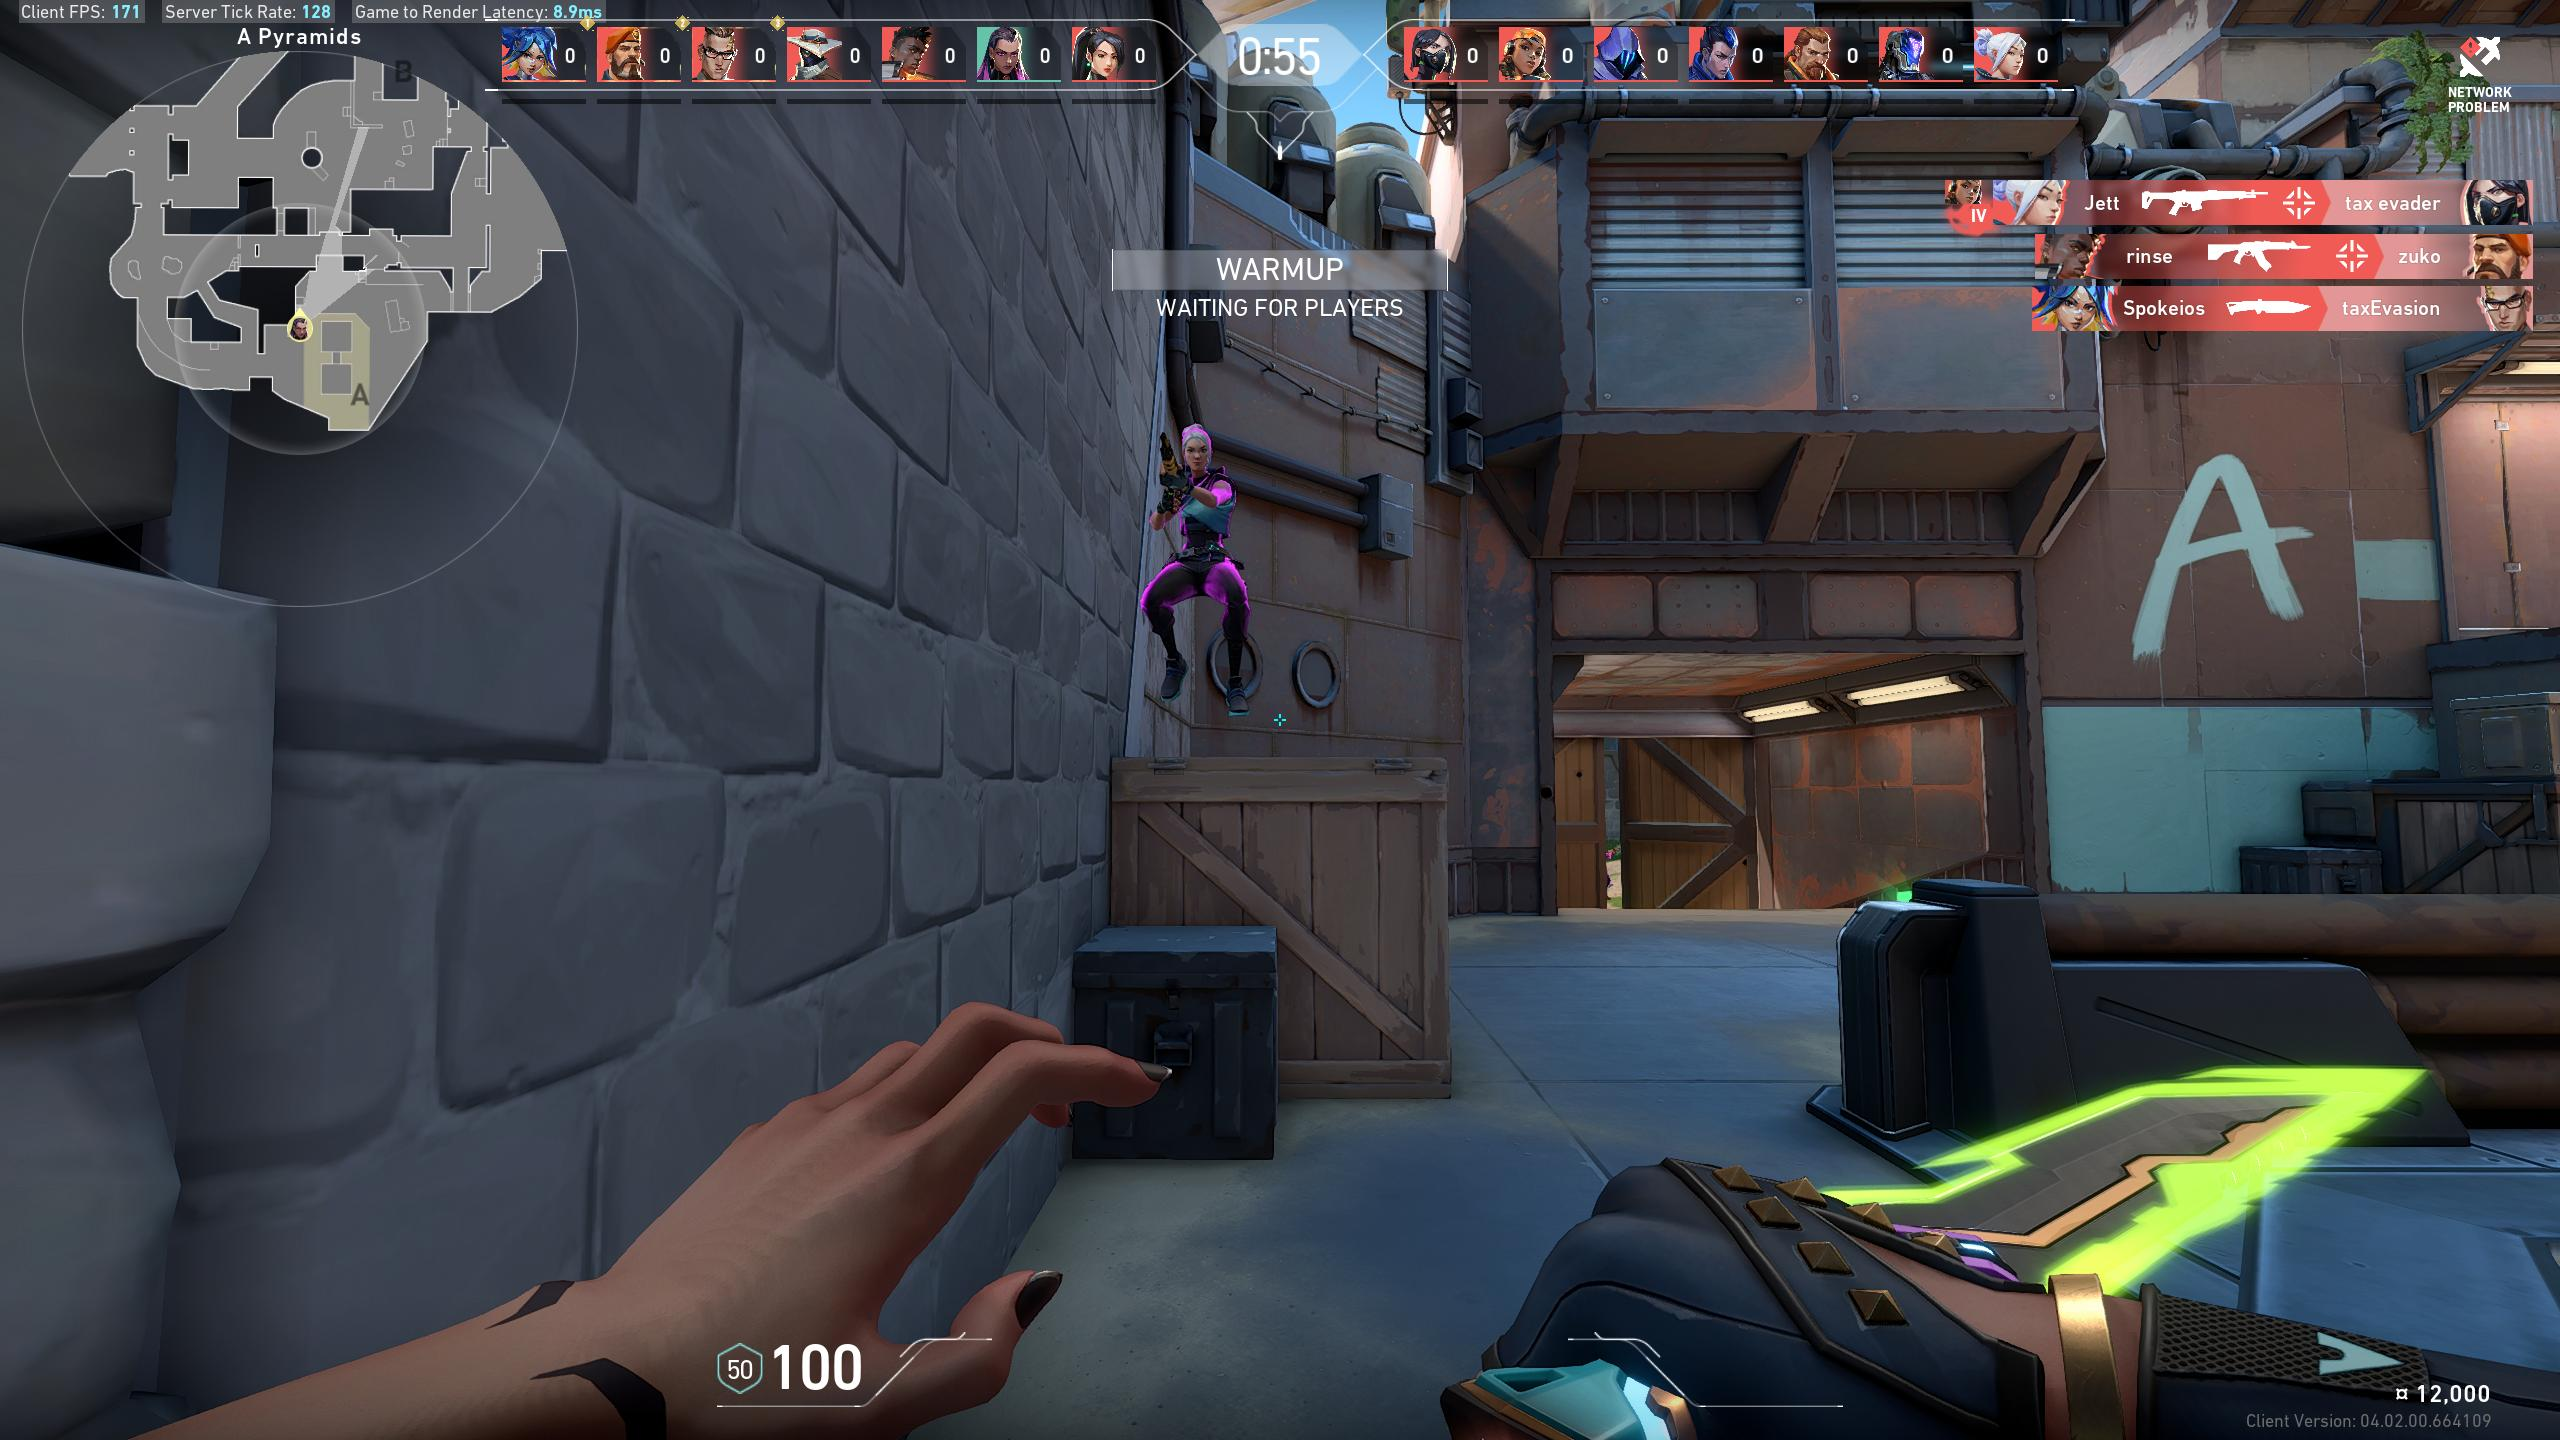enemyBody: (1189, 489, 1217, 540)
enemyHead: (1183, 436, 1208, 468)
